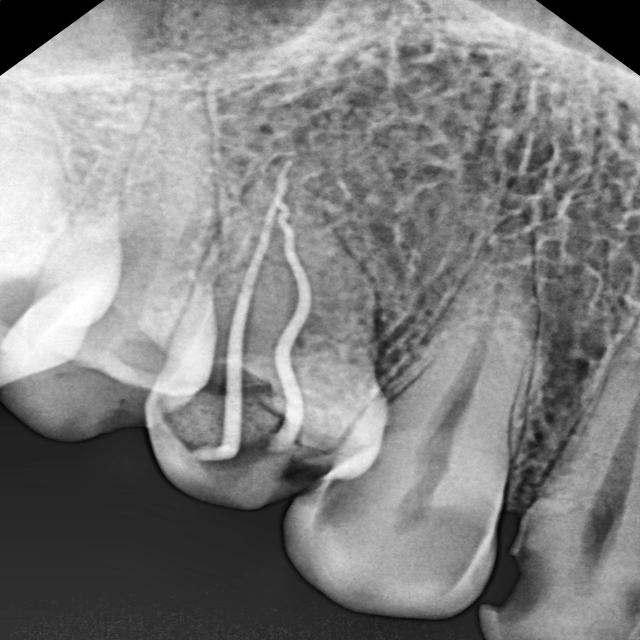Caries: (451, 497, 591, 636), (237, 439, 397, 535)
RCT: (143, 145, 356, 498)
